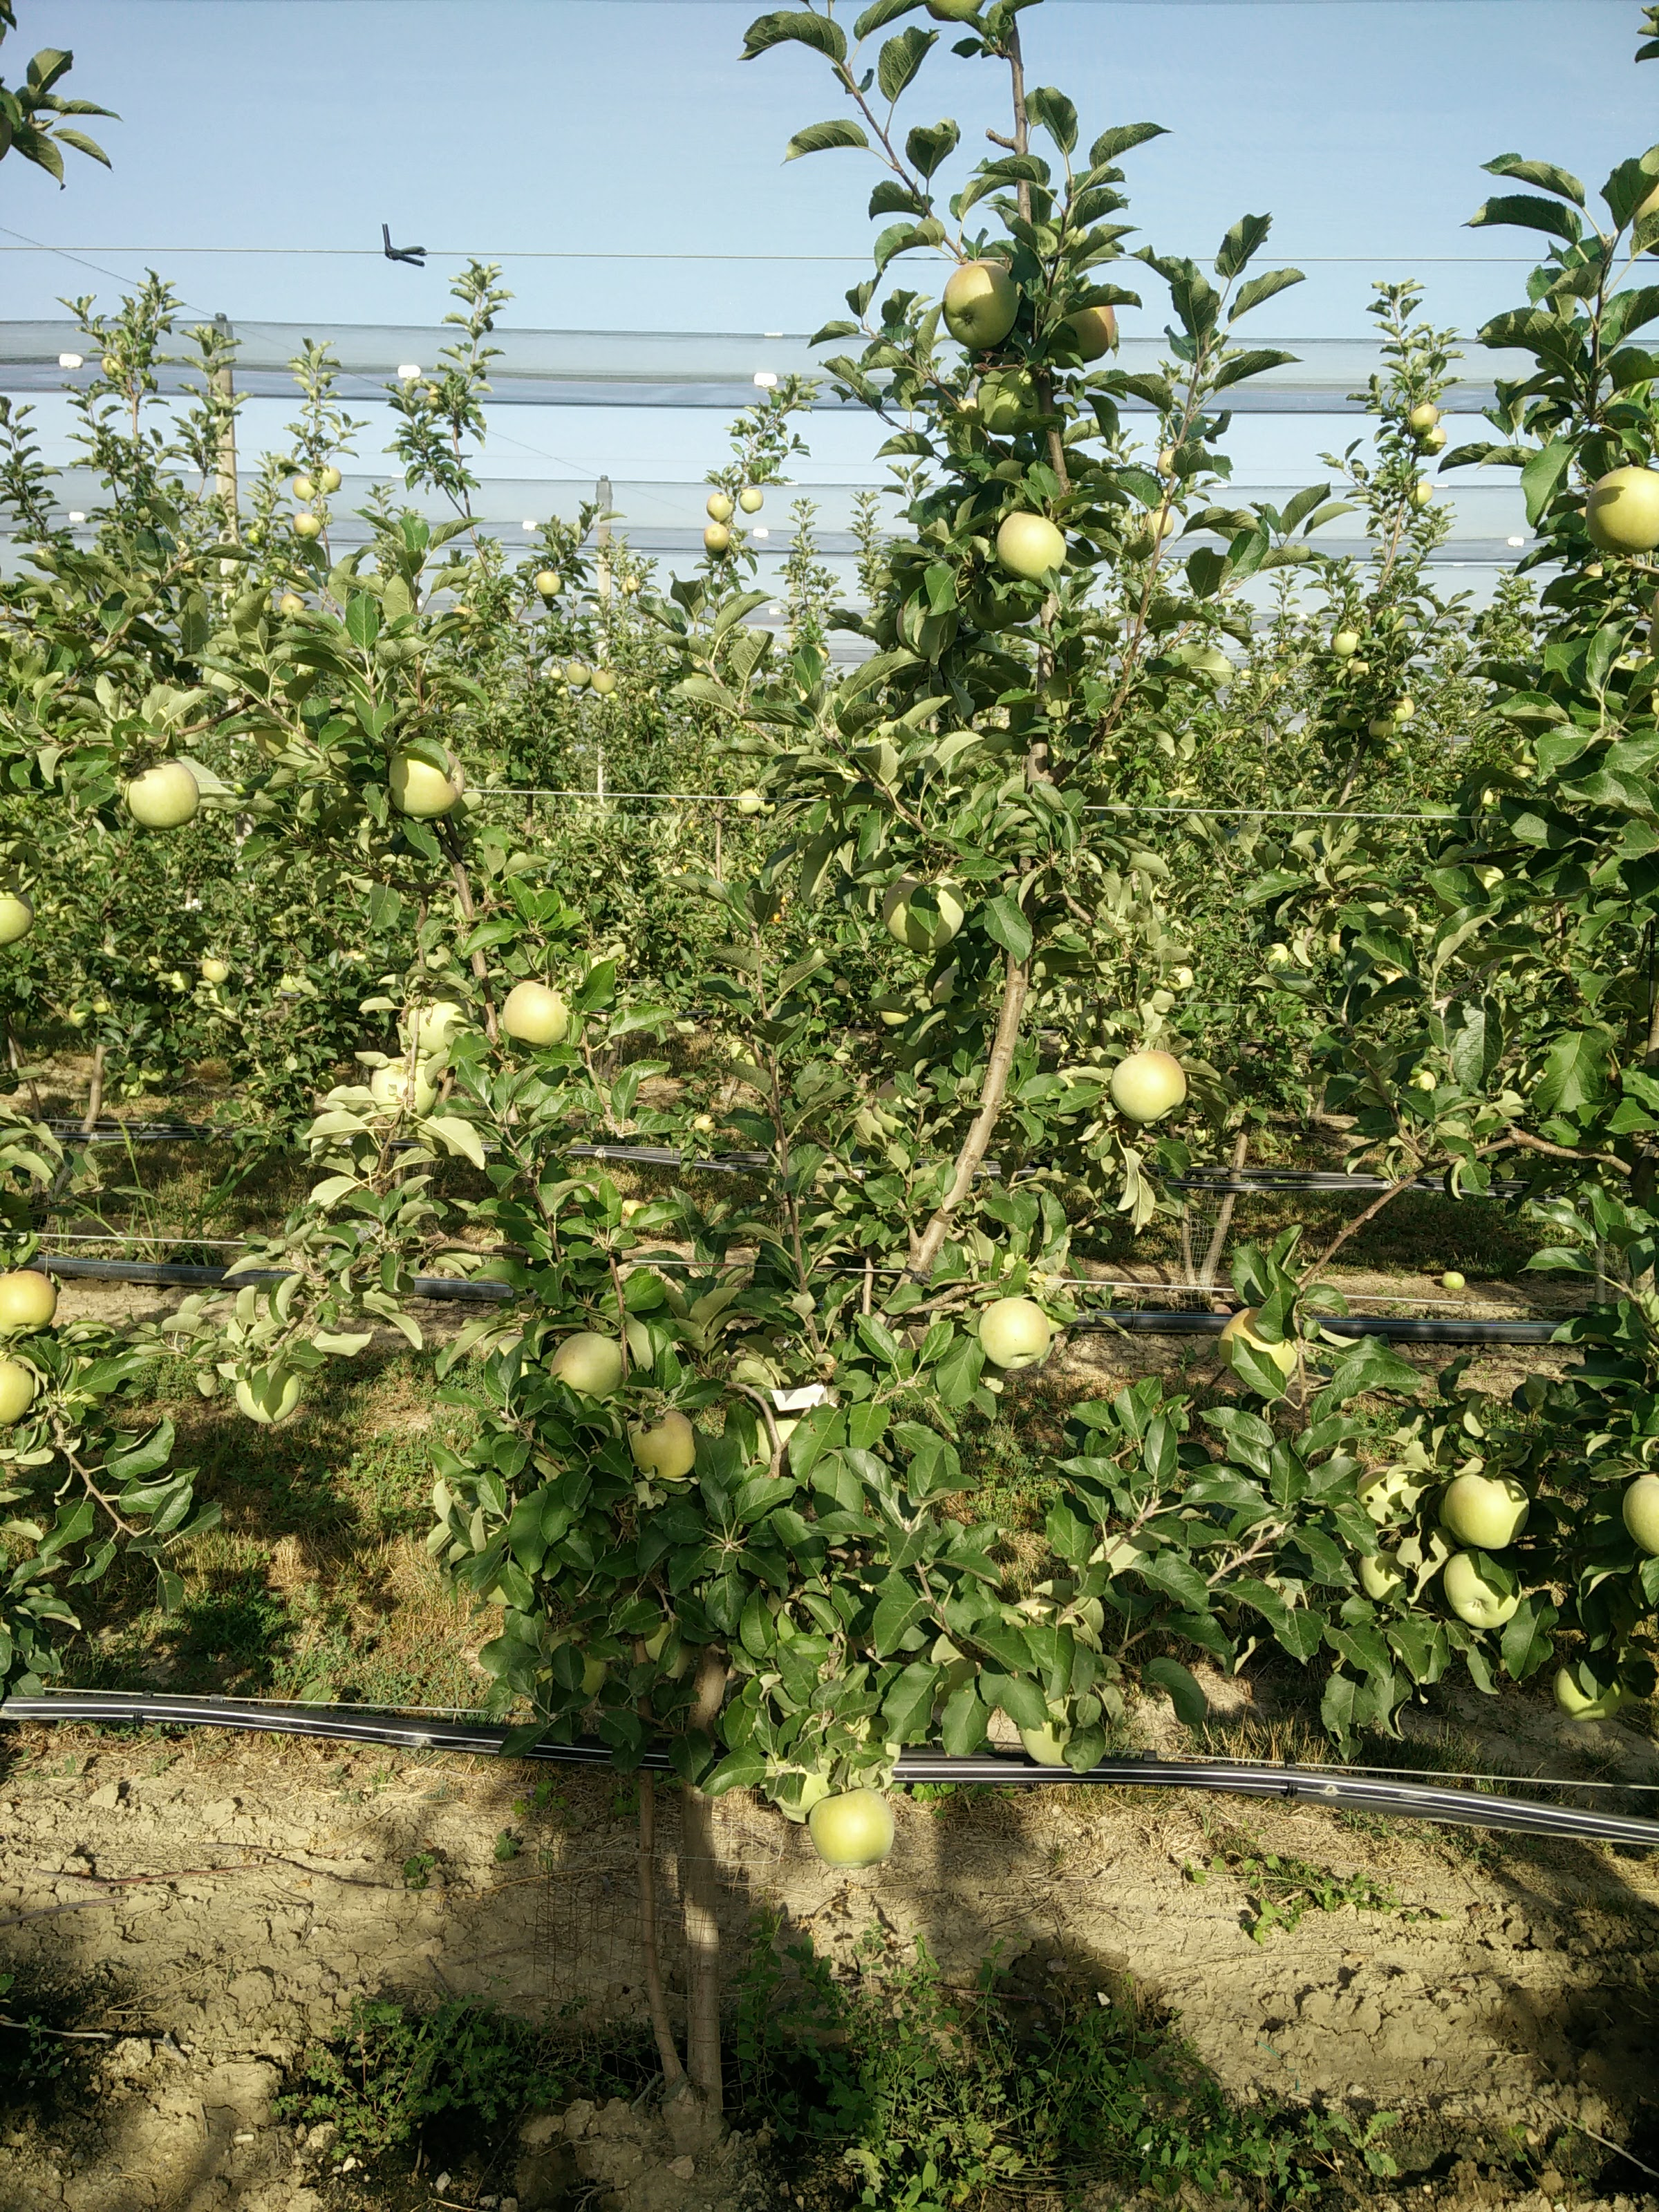apple: (807, 1790, 899, 1874), (941, 258, 1022, 348), (1443, 1469, 1530, 1550), (1584, 462, 1659, 554), (1108, 1049, 1190, 1127), (543, 1331, 624, 1405), (977, 1295, 1050, 1374), (388, 740, 465, 815), (120, 761, 203, 828), (628, 1405, 699, 1480), (991, 514, 1067, 581), (498, 981, 571, 1049), (1, 1268, 52, 1336), (1623, 1471, 1659, 1559)
